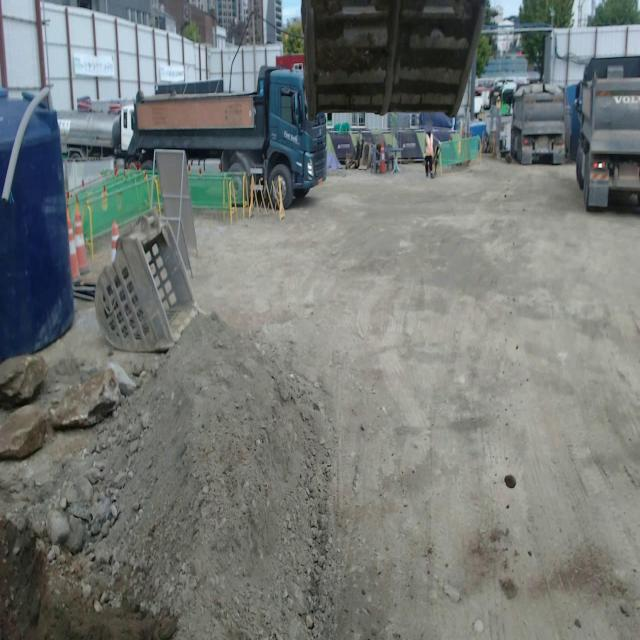stone: (50, 367, 120, 429), (0, 406, 49, 460), (0, 355, 48, 408)
white-sand: (191, 159, 640, 639), (78, 319, 341, 639)
